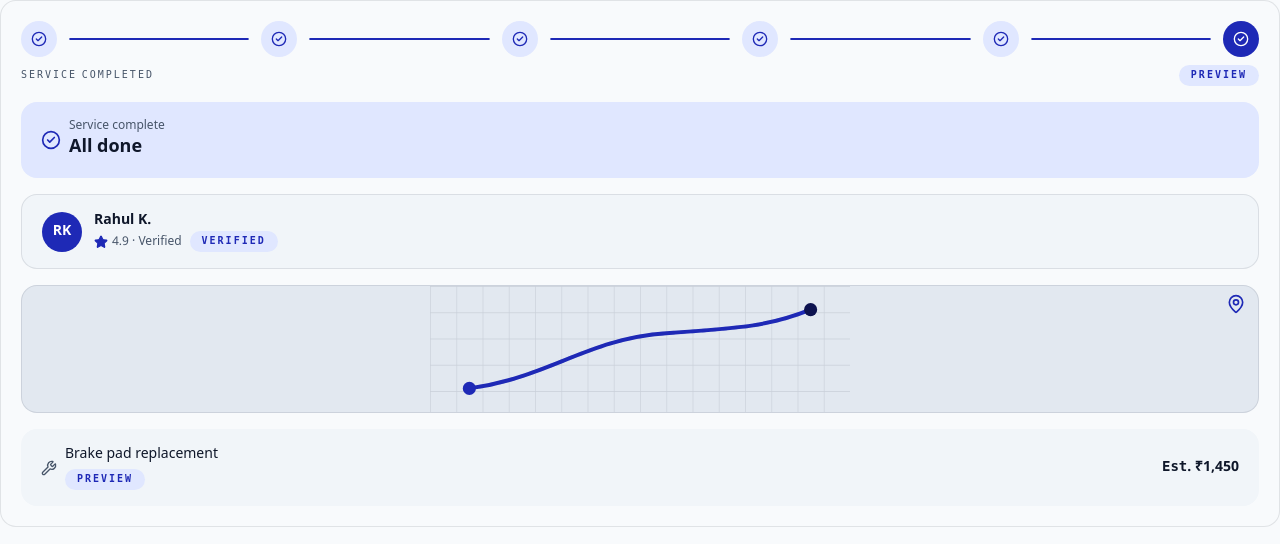
Test: HeroStage › keeps manual controls under prefers-reduced-motion
Click the button named "Show En route state (step 4)" at (760, 39), box [742, 21, 778, 57]
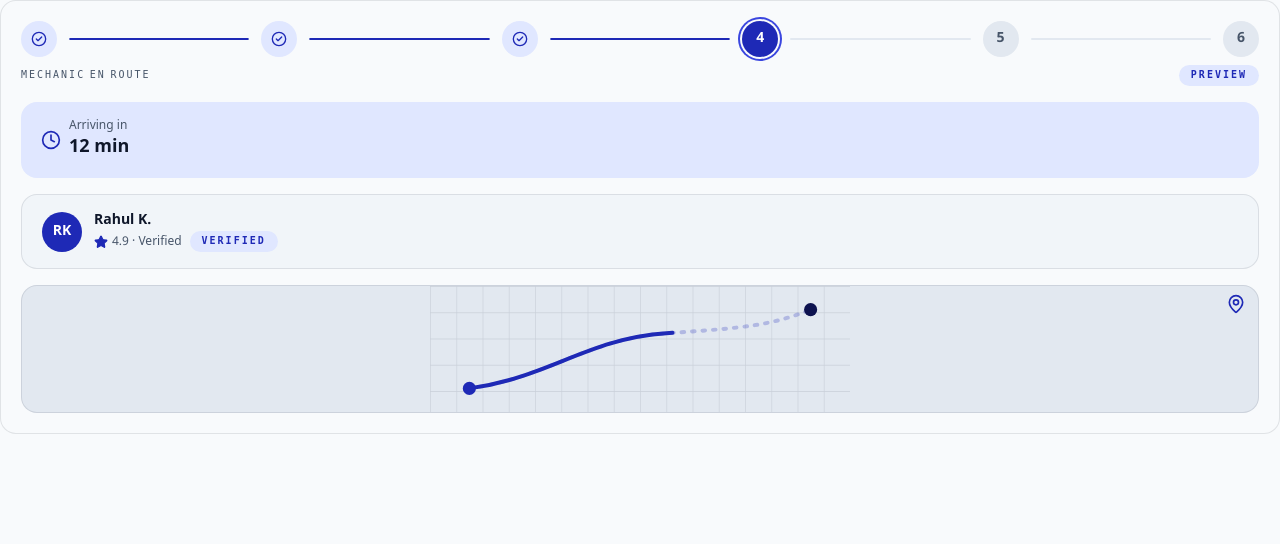
Now the text "Mechanic en route" is shown, box [21, 68, 150, 83]
Now the text "12 min" is shown, box [69, 134, 129, 162]
